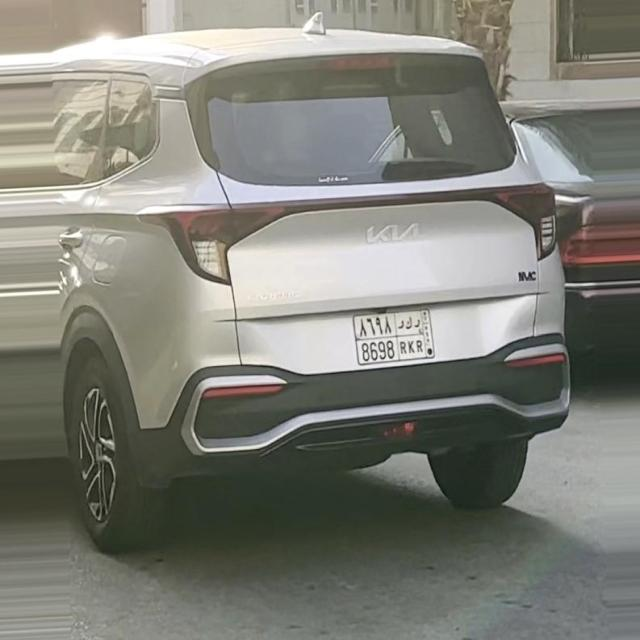Car-plate: (344, 300, 451, 376)
